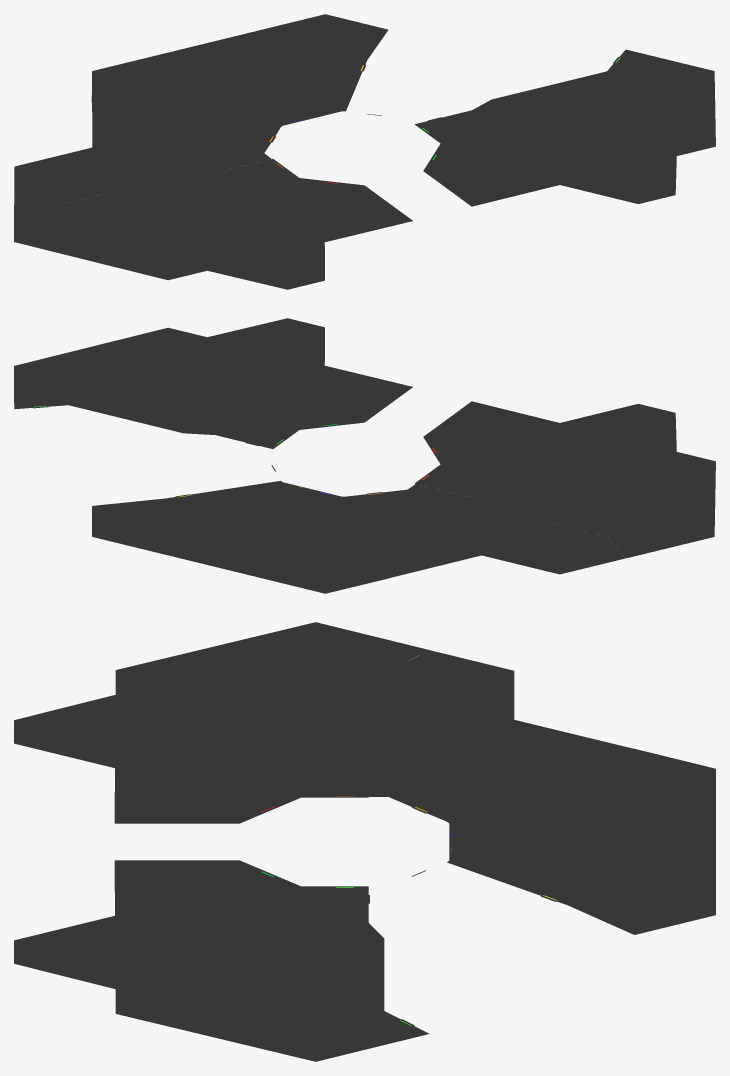
The model's file is ChaoProvisorio_Seccoes_PrimeiroAndar.gltf.
The picture shows the model from 3 angles, top to bottom: view 1: azimuth 30°, elevation 25°; view 2: azimuth 150°, elevation 25°; view 3: azimuth 270°, elevation 25°; orthographic projection. The views are drawn at different scales.
Parts seen in each view (by area): view 1: Plane.013; view 2: Plane.013; view 3: Plane.013.
Boxes of the visible parts, x1,y1,x2,y2 form: Plane.013: [14, 14, 715, 289]; Plane.013: [14, 318, 715, 593]; Plane.013: [14, 622, 715, 1061].
Size of the model in its own units: 179 by 0.01 by 121.
Materials: 8 (1 with a texture image).
